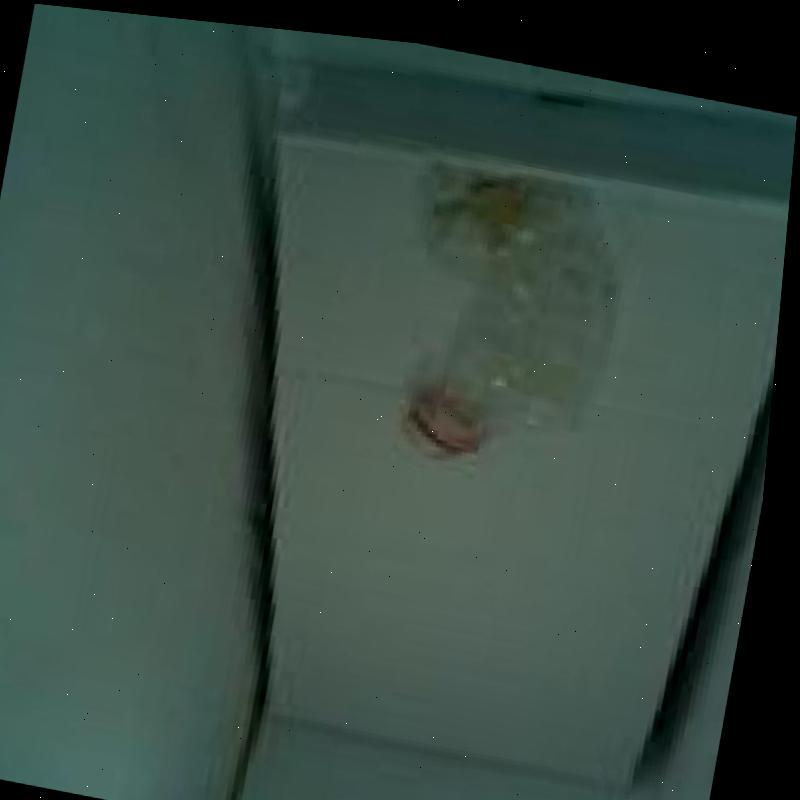botella: (377, 143, 638, 480)
